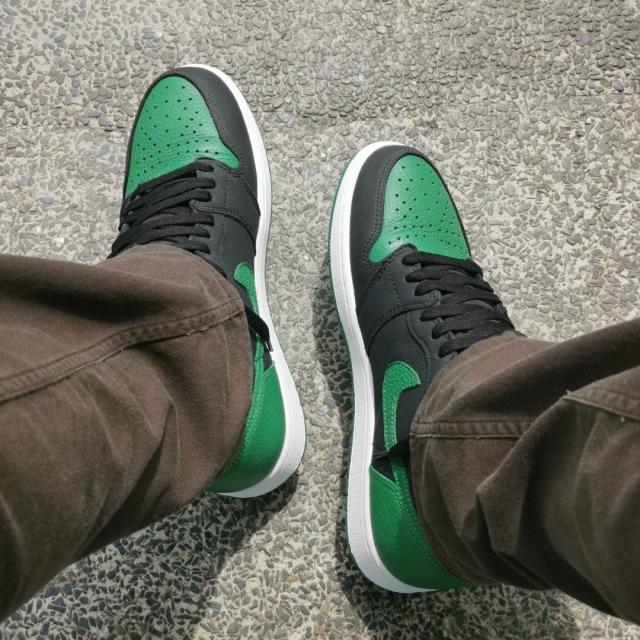nike original jordan 1: (328, 140, 524, 600), (115, 64, 306, 503)
